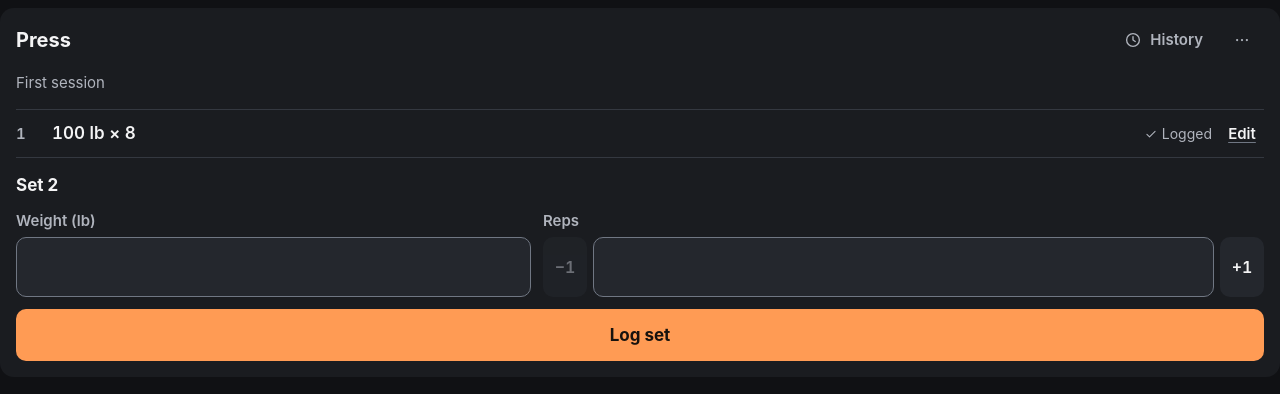
Test: WorkoutExercise saving › autosaves rep stepper corrections on the same completed set
What coordinates should you click on to do the following:
click the button with aria-label "Edit set 1 for Press"
I would click on:
 (1242, 134)
Its box is [1220,112,1264,156].
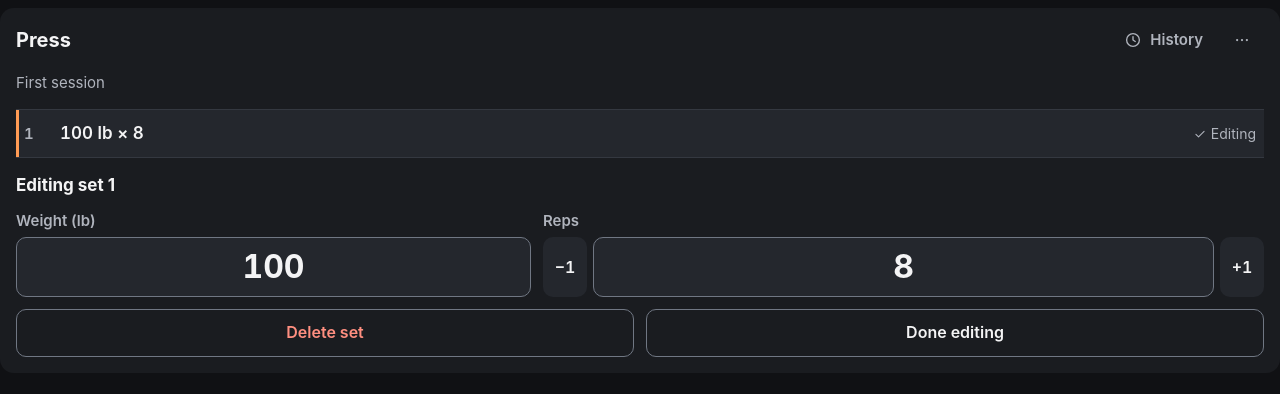
expect the button named "Decrease reps for Press" is shown: met, box [543,237,587,297]
What coordinates should you click on to do the following:
click the button named "Increase reps for Press"
I would click on:
 (1242, 267)
Its box is [1220,237,1264,297].
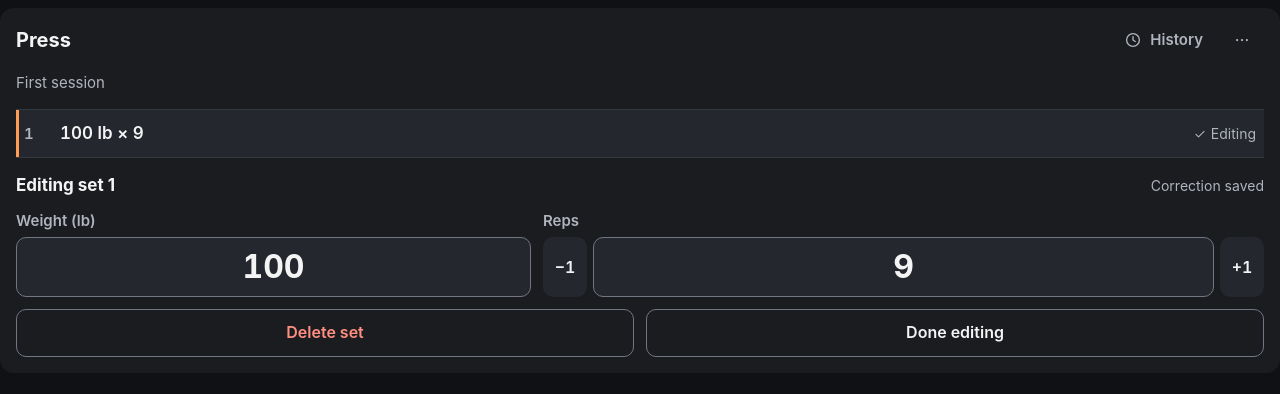
expect the field labelled "Reps" holds "9": met, box [593,237,1214,297]
What coordinates should you click on to do the following:
click the button named "Decrease reps for Press"
I would click on:
 (565, 267)
Its box is [543,237,587,297].
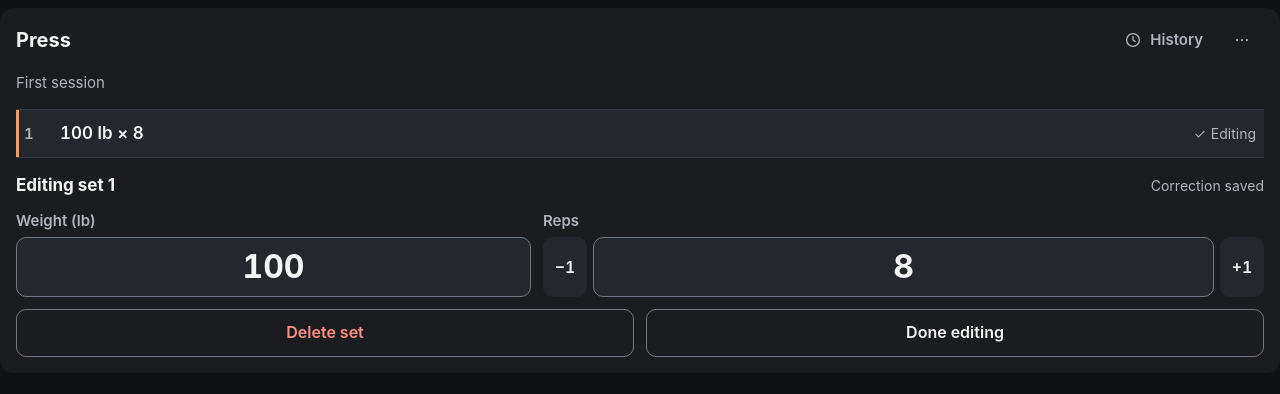
expect the field labelled "Reps" holds "8": met, box [593,237,1214,297]
